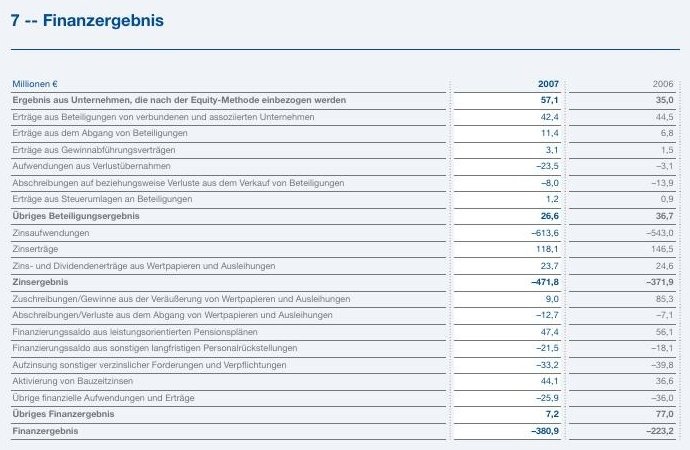table: (0, 0, 690, 450)
